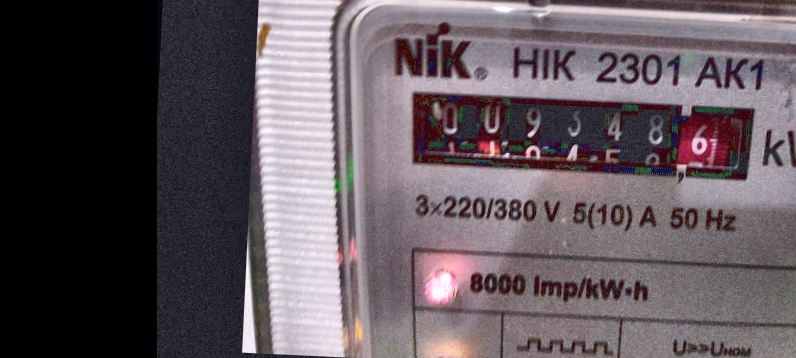0: (480, 100, 503, 137), (439, 100, 461, 136)
3: (562, 105, 586, 138)
4: (602, 107, 625, 145)
6: (688, 121, 712, 156)
8: (645, 111, 666, 146)
9: (523, 103, 543, 138)
screen: (385, 76, 774, 196)
